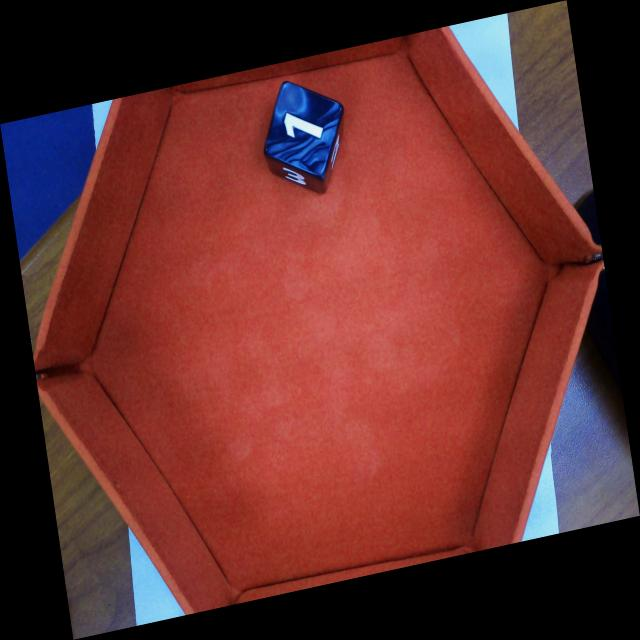dice: (261, 78, 347, 183)
